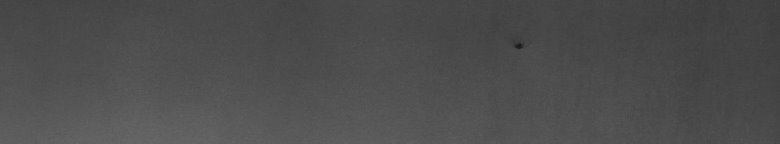fi: (512, 40, 531, 56)
